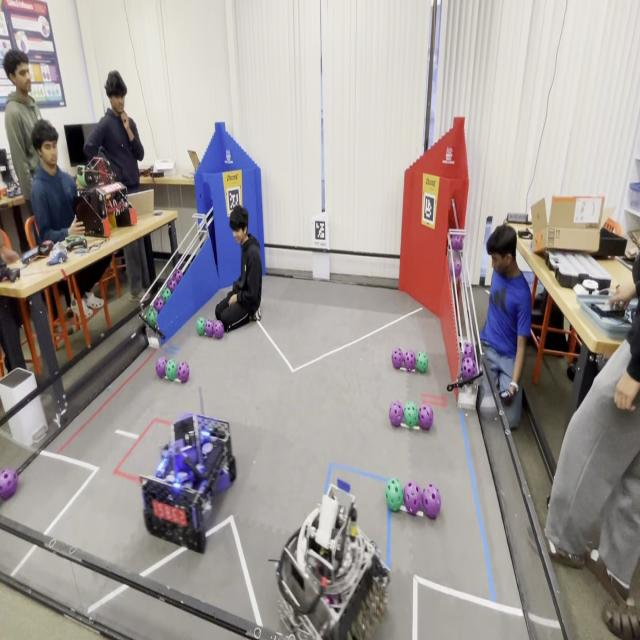artifact_green: (386, 479, 403, 511), (404, 402, 418, 427), (165, 359, 177, 381), (416, 352, 428, 373), (76, 167, 86, 188), (146, 307, 156, 327), (161, 287, 171, 303), (197, 317, 205, 335)
artifact_purple: (422, 484, 440, 519), (0, 469, 18, 501), (404, 482, 421, 514), (461, 357, 477, 380), (389, 400, 403, 426), (419, 404, 433, 430), (450, 256, 461, 279), (177, 362, 189, 383), (392, 348, 404, 369), (213, 320, 225, 340), (404, 351, 415, 371), (451, 234, 463, 251), (156, 357, 166, 377), (463, 342, 474, 359), (154, 296, 164, 313), (167, 277, 177, 293), (172, 269, 182, 285), (205, 320, 213, 337)
